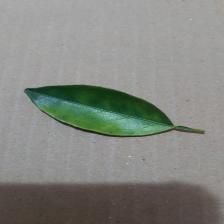greening: (17, 80, 181, 142)
